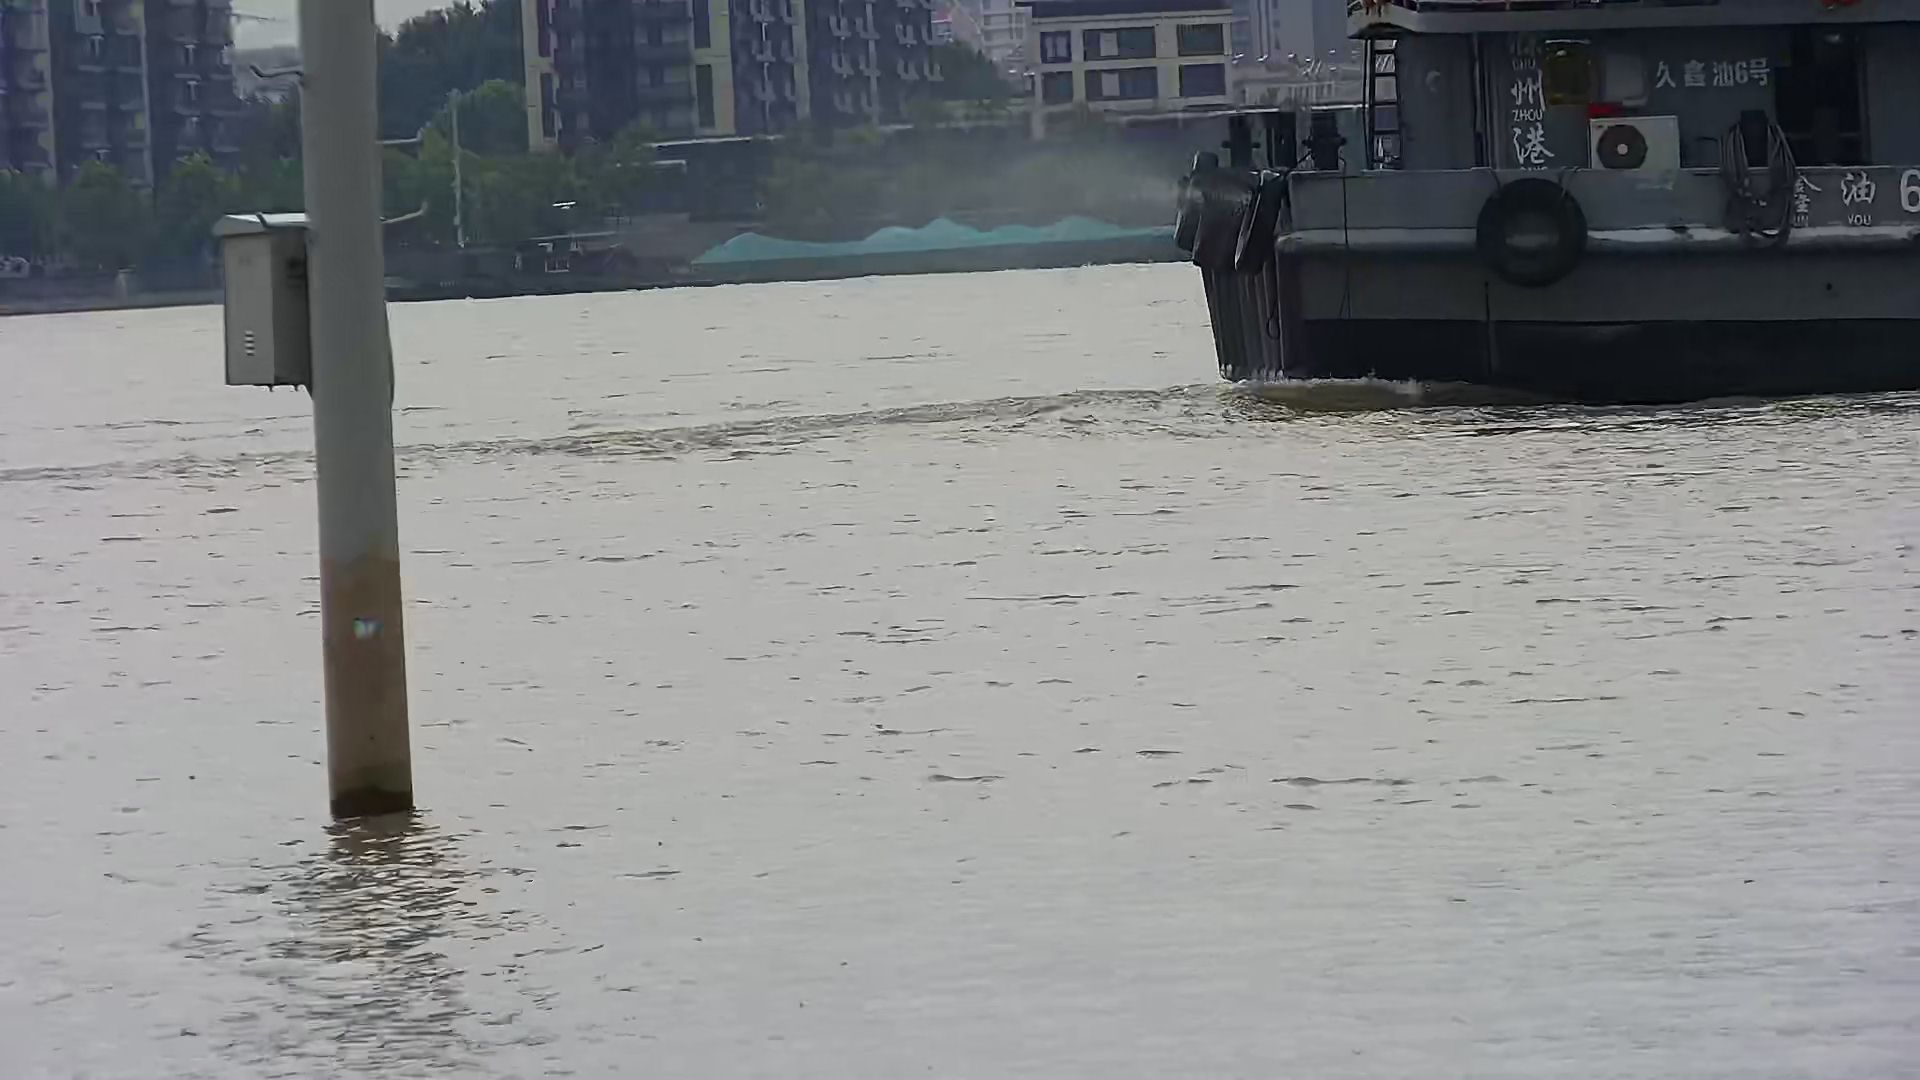mast: (224, 3, 418, 820)
ship: (1175, 4, 1920, 402), (385, 216, 1193, 303)
